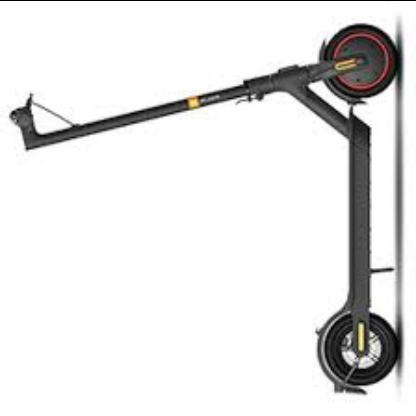bike: (6, 42, 406, 400)
